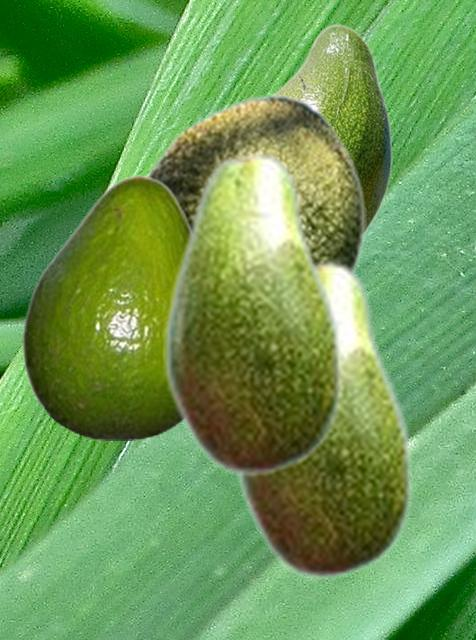avocado: (163, 148, 343, 478), (236, 257, 413, 581), (21, 174, 190, 439), (142, 94, 365, 273), (272, 23, 392, 233)
